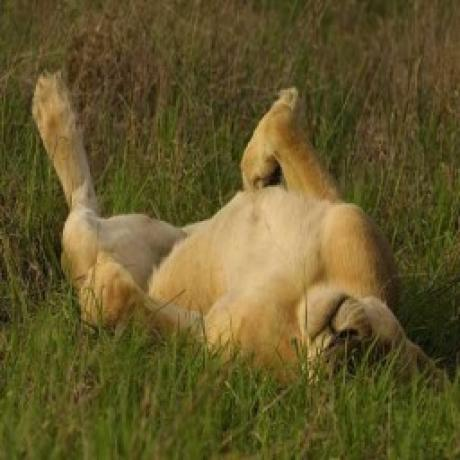Lion: (30, 65, 448, 400)
